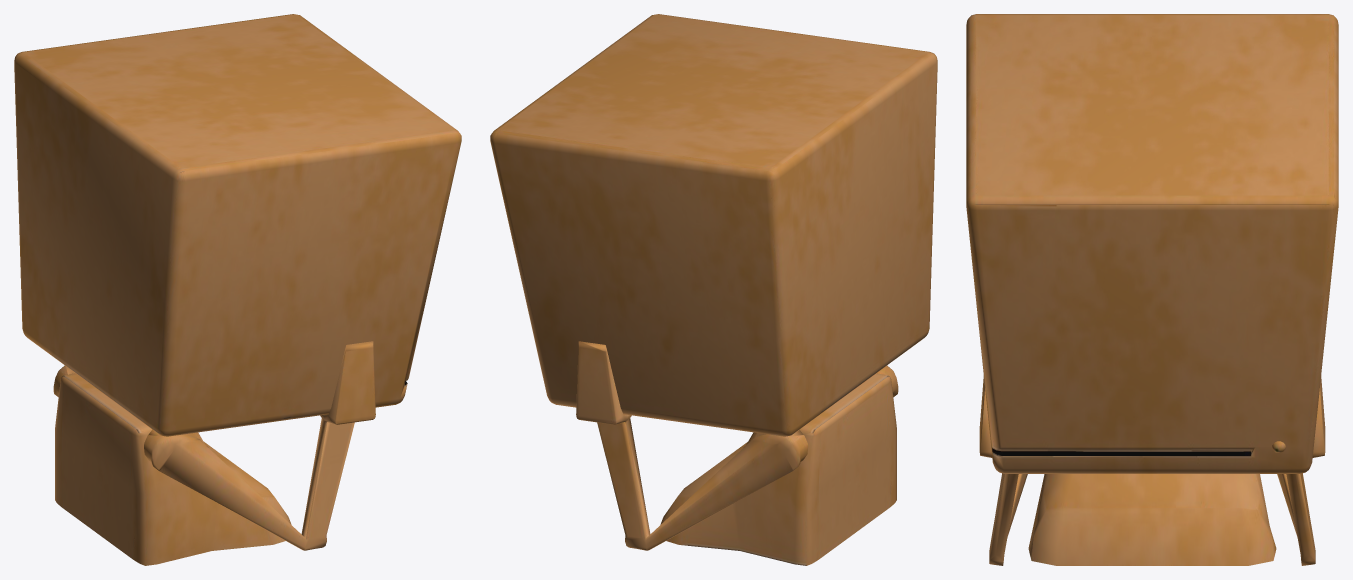
The model's file is DeepThought-v1.glb.
3 views of the same model, side by side, from view 1: azimuth 30°, elevation 25°; view 2: azimuth 150°, elevation 25°; view 3: azimuth 270°, elevation 25° (orthographic). The views are drawn at different scales.
Parts seen in each view (by area): view 1: Deep Thought.001; view 2: Deep Thought.001; view 3: Deep Thought.001.
Part boxes in pixels (box(x1,y1,x2,y2)): Deep Thought.001: box(14, 14, 461, 565); Deep Thought.001: box(490, 14, 937, 565); Deep Thought.001: box(966, 14, 1338, 565).
Size of the model in its own units: 8.57 by 11.85 by 8.5.
1 material, 1 textured.
